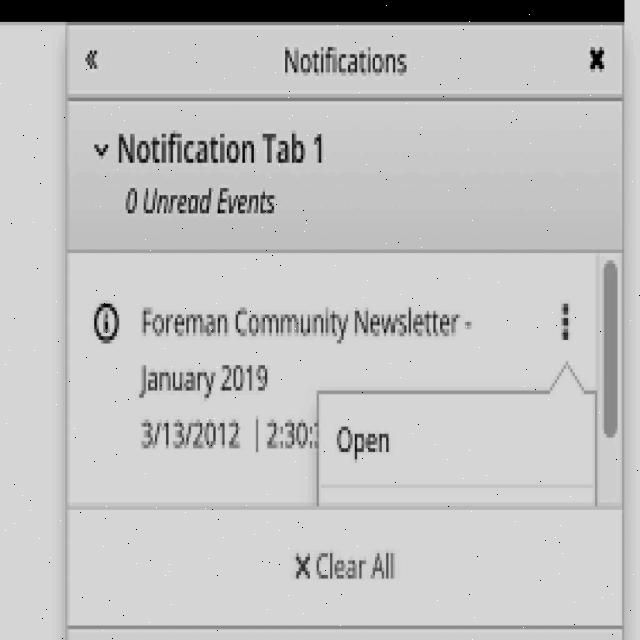button: (62, 498, 629, 630), (552, 291, 579, 346), (578, 38, 615, 78), (78, 39, 107, 77)
dropdownMenu: (66, 100, 630, 252)
label: (275, 37, 422, 83)
